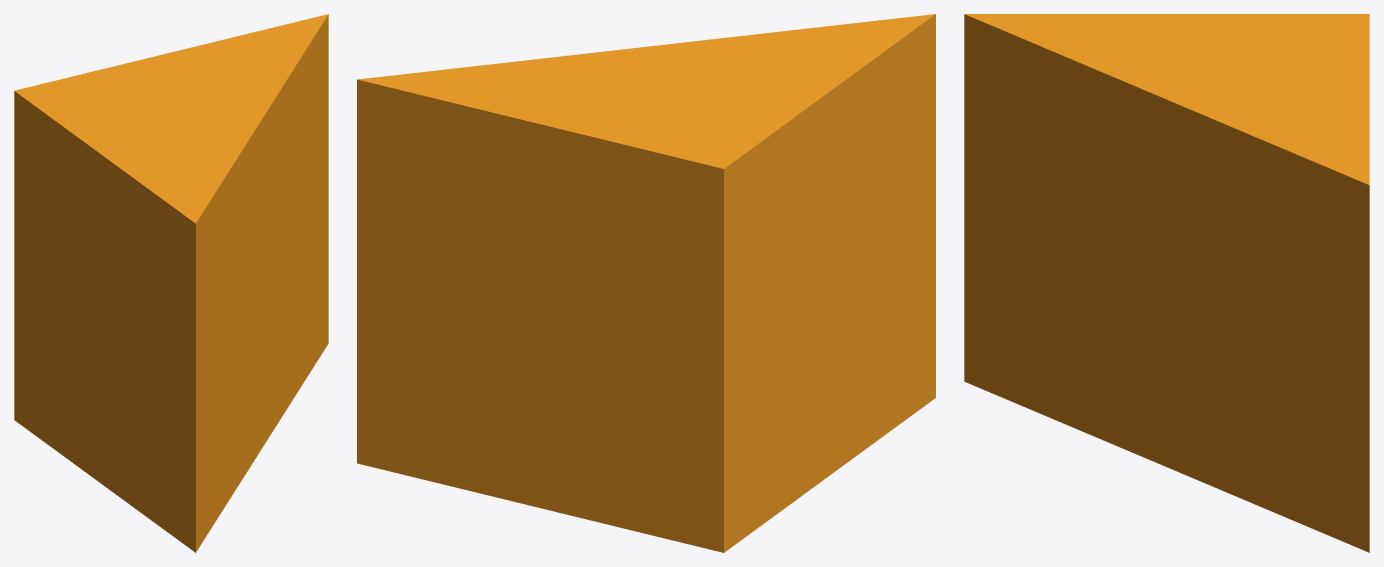
File: SM_Primitive_Wedge_01.fbx
3 renders of one model, left to right at view 1: azimuth 30°, elevation 25°; view 2: azimuth 150°, elevation 25°; view 3: azimuth 270°, elevation 25°, orthographic. The views are drawn at different scales.
Visible parts, largest first — view 1: SM_Primitive_Wedge_01; view 2: SM_Primitive_Wedge_01; view 3: SM_Primitive_Wedge_01.
Part boxes in pixels (x1,y1,x2,y2): SM_Primitive_Wedge_01: (14, 14, 328, 552); SM_Primitive_Wedge_01: (357, 14, 935, 552); SM_Primitive_Wedge_01: (964, 14, 1369, 552).
Size of the model in its own units: 100 by 100 by 100.
